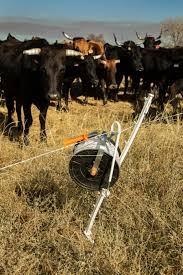cow: (0, 42, 77, 143), (108, 38, 144, 95), (73, 55, 100, 102), (99, 59, 119, 92), (68, 35, 94, 55)
